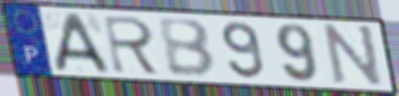9: (275, 22, 323, 84), (220, 21, 267, 81)
A: (52, 11, 114, 74)
B: (155, 18, 219, 80)
N: (323, 22, 385, 90)
R: (101, 14, 164, 78)
